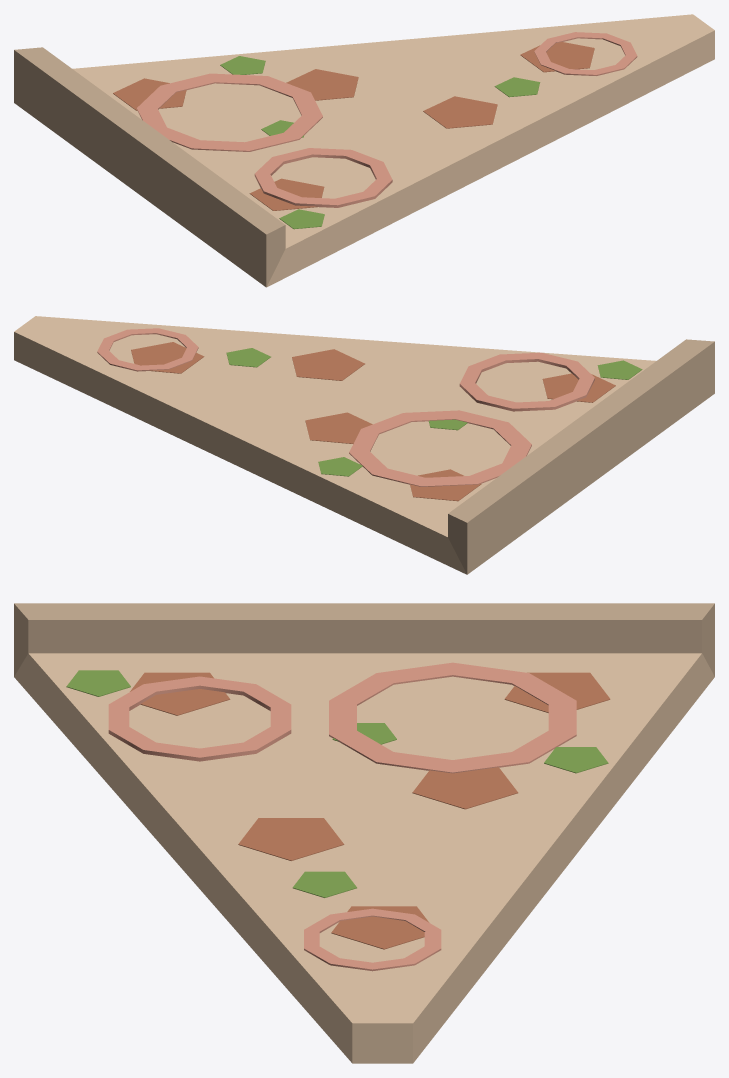
File: food6.fbx
The picture shows the model from 3 angles, top to bottom: view 1: azimuth 30°, elevation 25°; view 2: azimuth 150°, elevation 25°; view 3: azimuth 270°, elevation 25°; orthographic projection. The views are drawn at different scales.
Parts seen in each view (by area): view 1: Boole; view 2: Boole; view 3: Boole.
Part boxes in pixels (x1,y1,x2,y2): Boole: [14, 14, 714, 287]; Boole: [14, 316, 714, 574]; Boole: [14, 603, 714, 1063].
Bounding box in the file's own units: 20.39 × 1.81 × 15.63.
